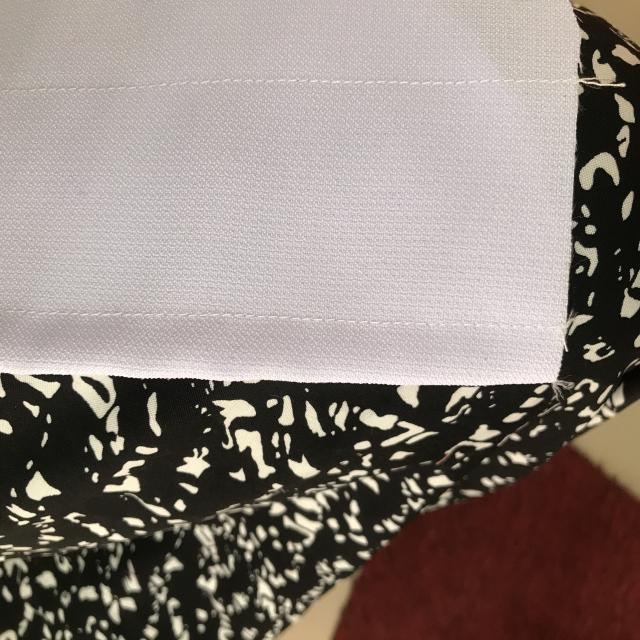good: (300, 66, 515, 97), (272, 305, 411, 344), (32, 66, 184, 101), (43, 292, 121, 334)
